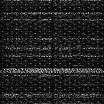lte: (1, 67, 104, 73), (1, 12, 104, 14), (1, 55, 104, 57)
